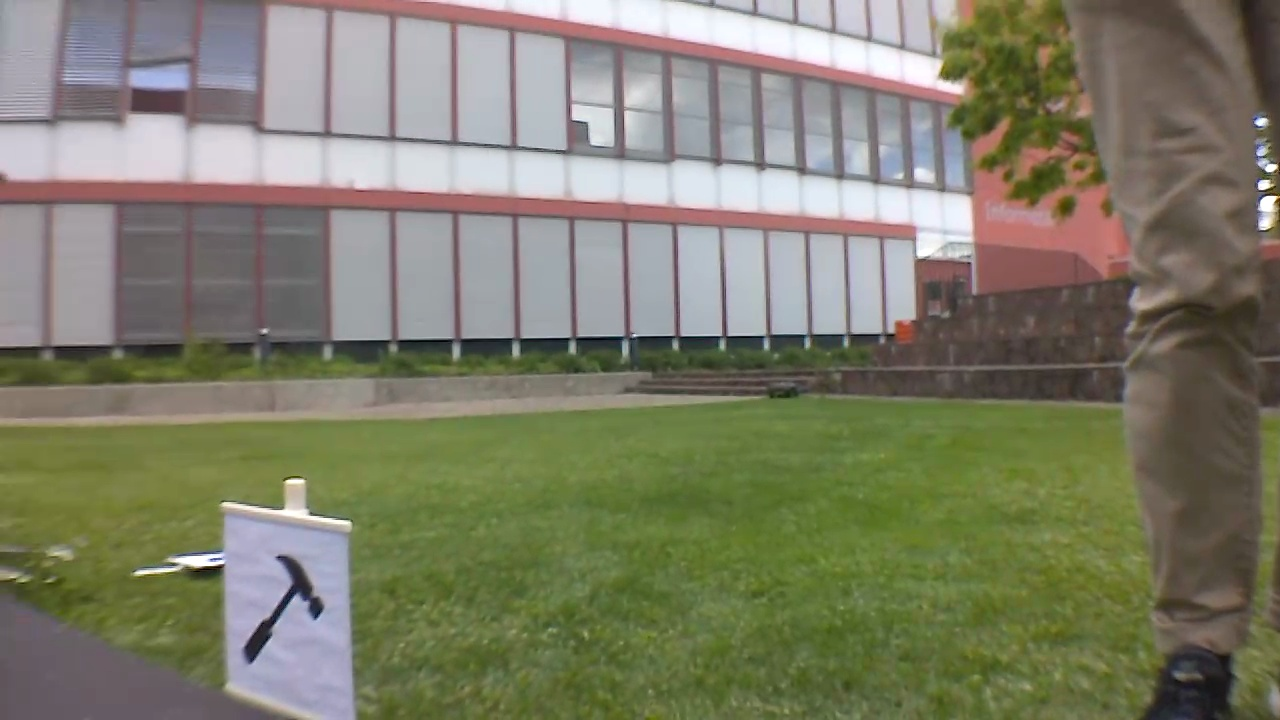hammer: (229, 532, 331, 672)
